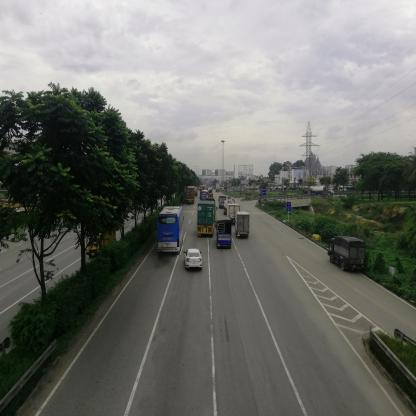bus: (159, 208, 184, 257), (201, 193, 207, 201)
car: (186, 251, 202, 269)
container: (199, 201, 216, 239), (187, 186, 195, 204)
truck: (330, 235, 365, 274), (218, 218, 233, 250), (236, 213, 250, 241), (312, 186, 335, 199), (229, 205, 239, 216), (220, 197, 226, 207)
